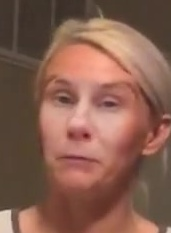eb_f: (43, 72, 138, 114)
